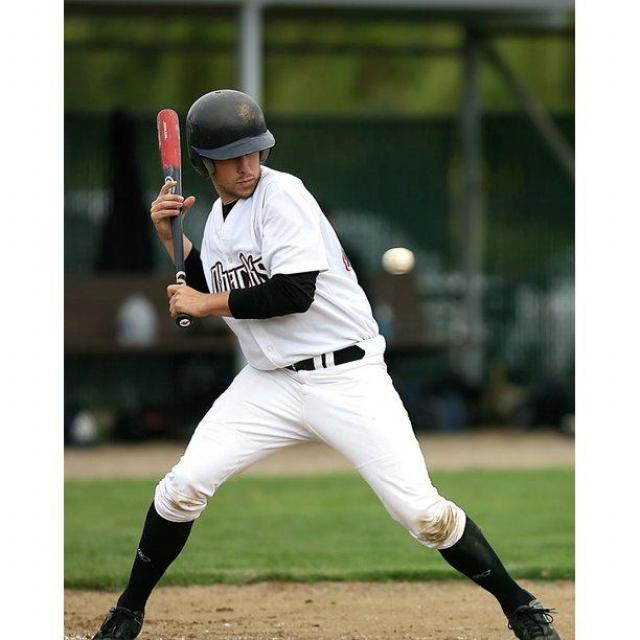baseball: (382, 247, 413, 274)
